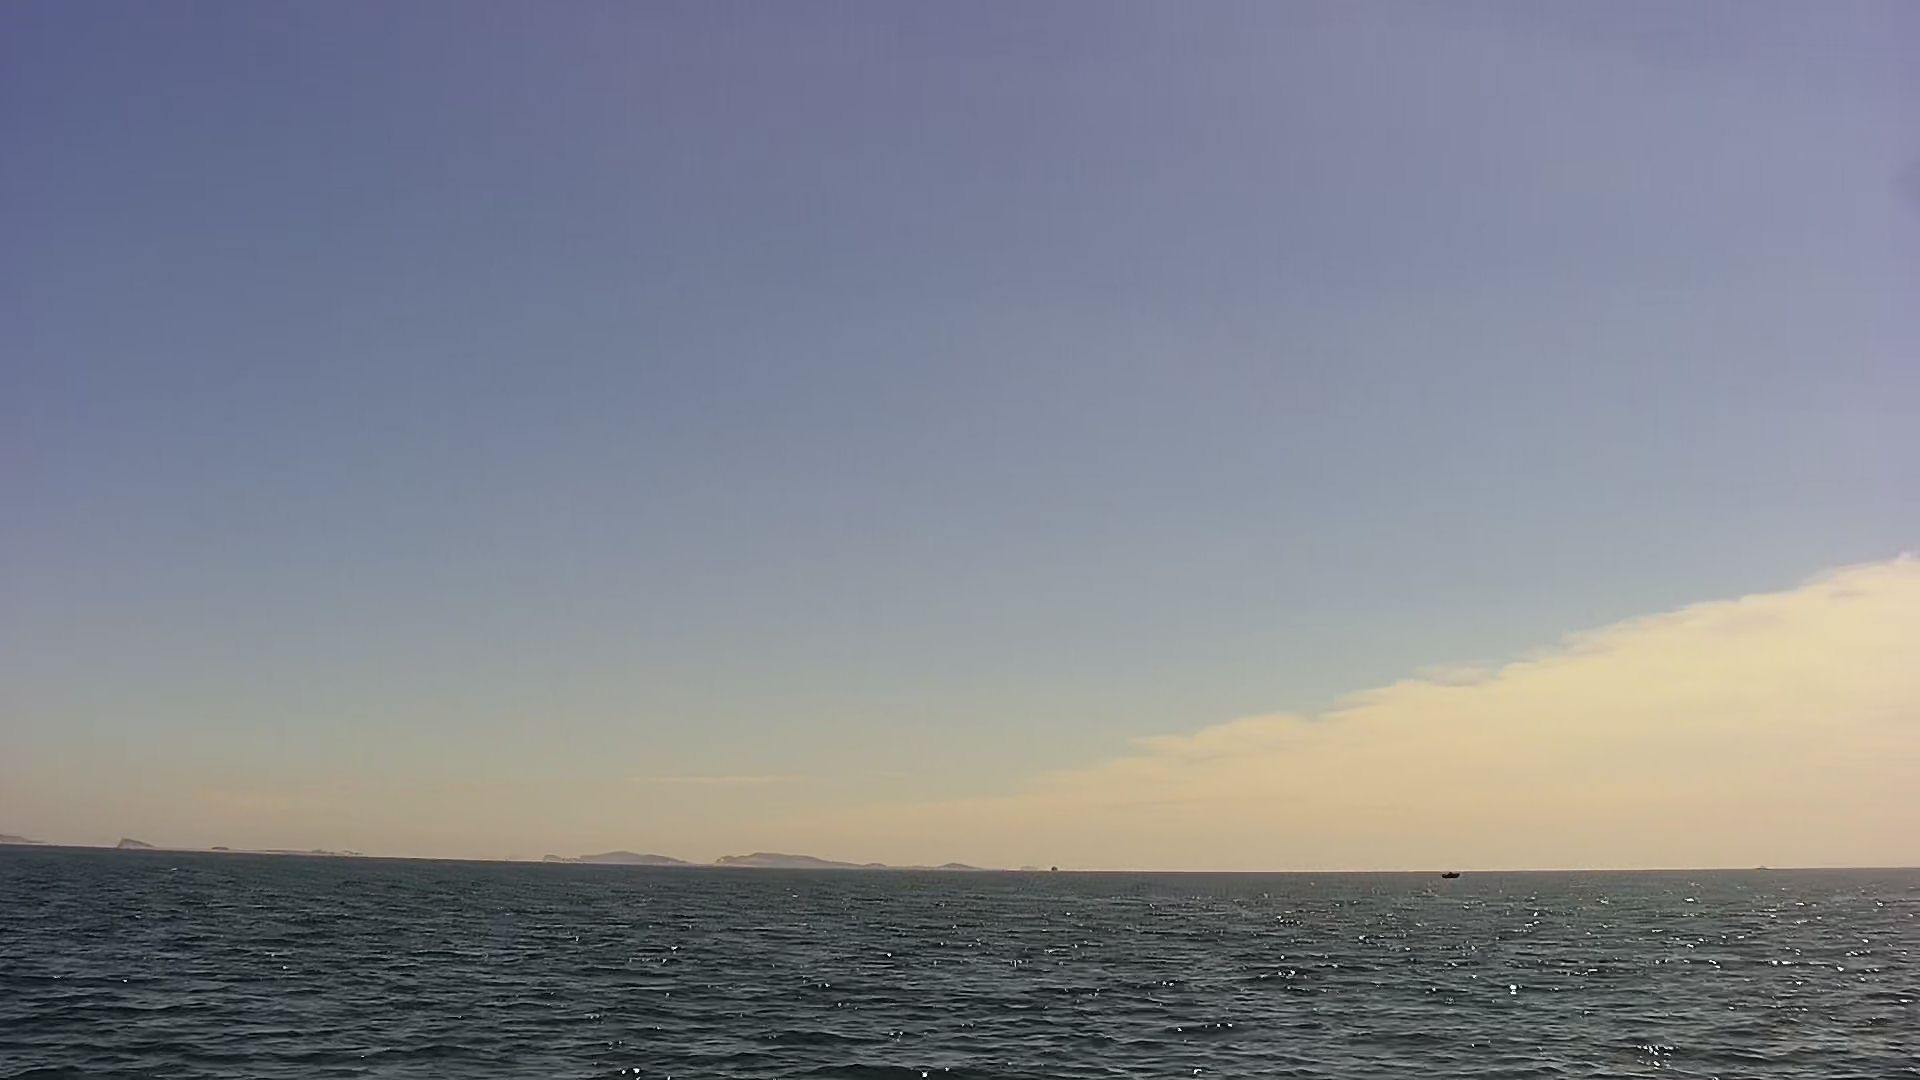rock: (721, 853, 894, 869), (207, 841, 363, 856), (543, 853, 695, 866), (913, 855, 986, 872), (3, 829, 51, 847), (116, 833, 160, 849), (1011, 860, 1054, 869)
